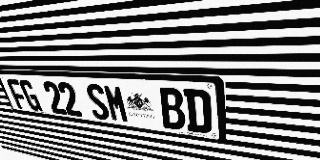2: (56, 82, 83, 117), (41, 81, 67, 115)
B: (158, 87, 186, 131)
D: (183, 89, 212, 134)
F: (6, 79, 30, 110)
G: (18, 80, 43, 112)
M: (102, 84, 130, 123)
S: (84, 83, 111, 121)
